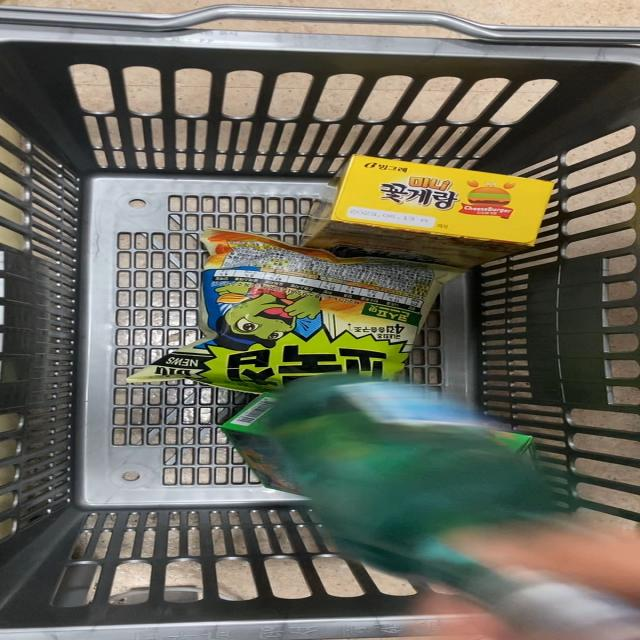ggobukchip: (144, 232, 430, 402)
goraebob: (221, 385, 294, 506)
jinro: (260, 376, 640, 640)
minicrab: (307, 156, 568, 260)
